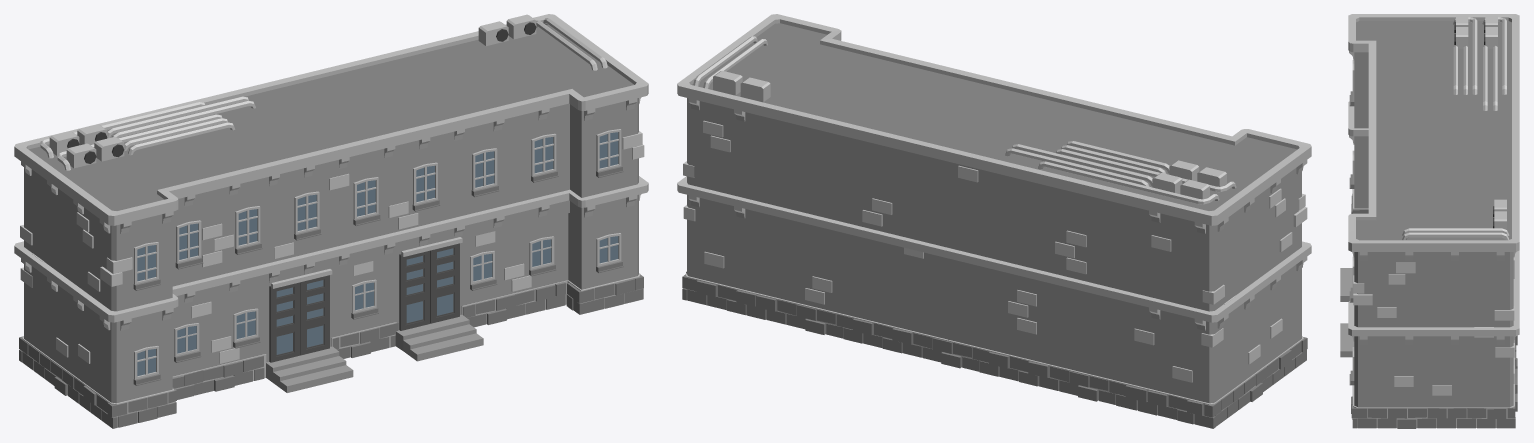
The model's file is qtb_2story_wide_2doors.fbx.
3 views of the same model, side by side, from view 1: azimuth 30°, elevation 25°; view 2: azimuth 150°, elevation 25°; view 3: azimuth 270°, elevation 25° (orthographic). The views are drawn at different scales.
Visible parts, largest first — view 1: qtb_2story_wide_2doors_LOD0; view 2: qtb_2story_wide_2doors_LOD0; view 3: qtb_2story_wide_2doors_LOD0.
Boxes of the visible parts, left/top/right/bottom form: qtb_2story_wide_2doors_LOD0: left=14, top=14, right=648, bottom=428; qtb_2story_wide_2doors_LOD0: left=677, top=14, right=1311, bottom=428; qtb_2story_wide_2doors_LOD0: left=1340, top=14, right=1519, bottom=428.
Size of what is drawn, in the model's own units: 18.44 by 7.42 by 6.09.
1 material, 1 textured.
